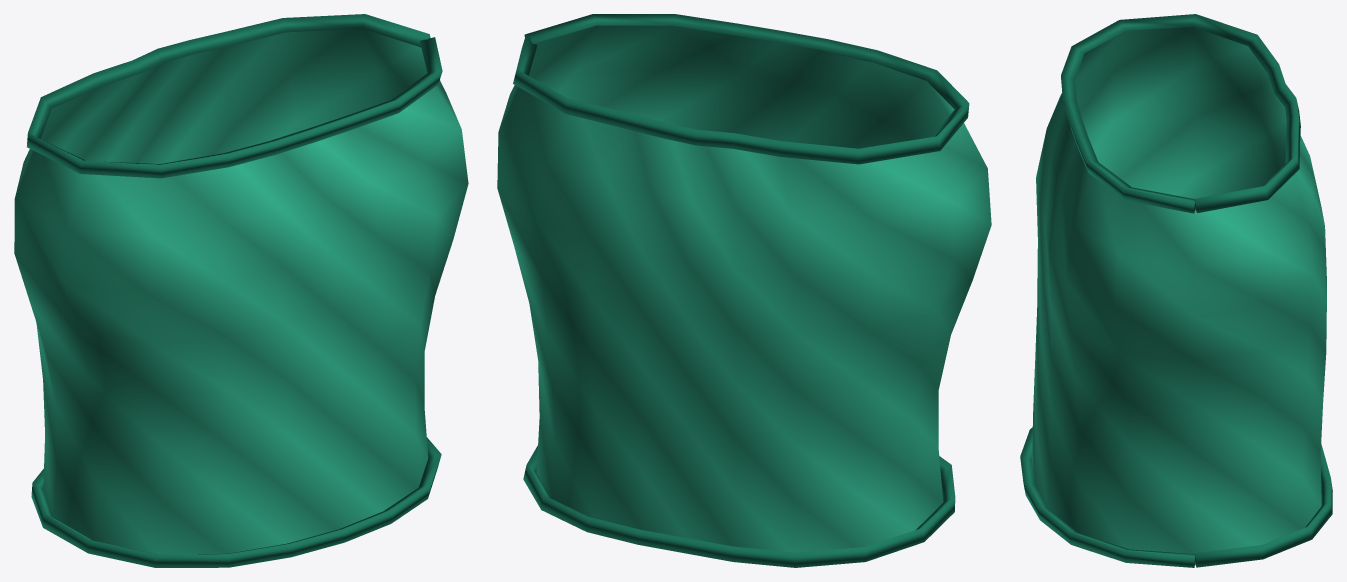
Rendered from mythril_armor_chest.glb.
The picture shows the model from 3 angles, left to right: view 1: azimuth 30°, elevation 25°; view 2: azimuth 150°, elevation 25°; view 3: azimuth 270°, elevation 25°; orthographic projection. The views are drawn at different scales.
Visible parts, largest first — view 1: mythril_armor_chest; view 2: mythril_armor_chest; view 3: mythril_armor_chest.
Boxes of the visible parts, x1,y1,x2,y2 form: mythril_armor_chest: (14, 14, 468, 567); mythril_armor_chest: (497, 14, 991, 567); mythril_armor_chest: (1020, 14, 1332, 567).
Bounding box in the file's own units: 0.4364 × 0.3859 × 0.2895.
